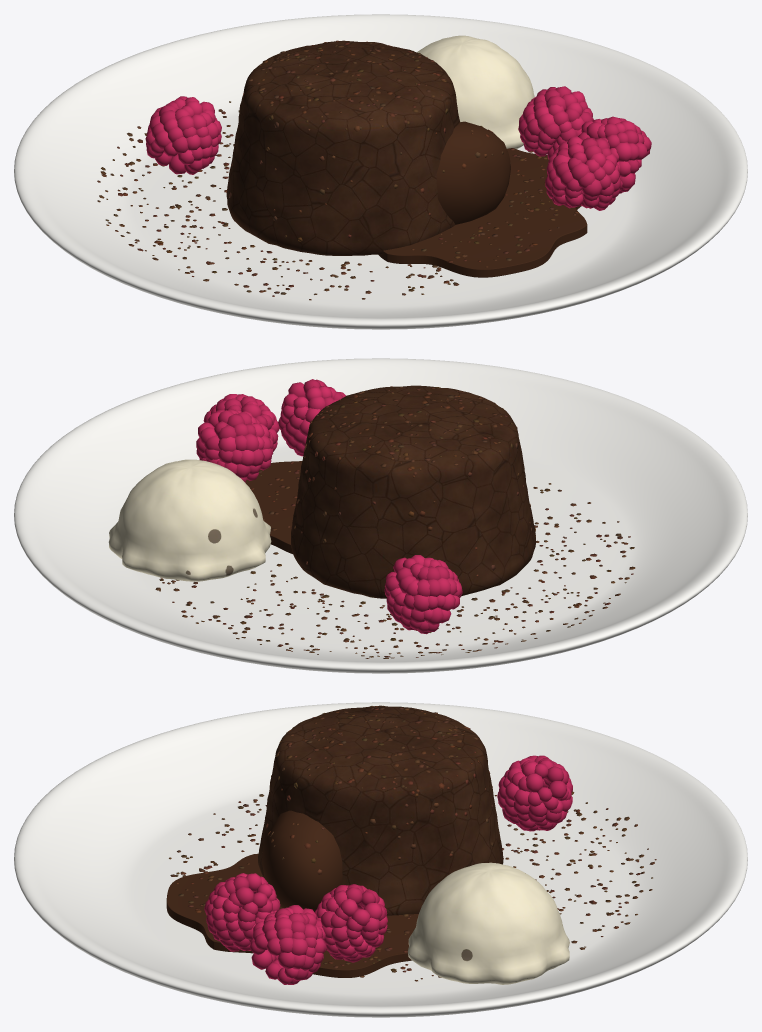
The model's file is lava-cake.glb.
3 views of the same model, one above another, from view 1: azimuth 30°, elevation 25°; view 2: azimuth 150°, elevation 25°; view 3: azimuth 270°, elevation 25° (orthographic).
Parts seen in each view (by area): view 1: base, lava, raspberry, lava-scoop, cocoa; view 2: base, lava, lava-scoop, raspberry, cocoa; view 3: base, lava, raspberry, lava-scoop, cocoa.
Part boxes in pixels (x1,y1,x2,y2): base: (14,14,747,329); lava: (226,40,587,277); raspberry: (145,86,651,210); lava-scoop: (417,35,534,149); cocoa: (97,40,578,300); base: (14,358,747,673); lava: (245,385,535,598); lava-scoop: (108,459,271,581); raspberry: (196,379,462,634); cocoa: (155,386,635,658); base: (14,702,747,1017); lava: (166,705,503,977); raspberry: (204,755,572,984); lava-scoop: (407,862,569,984); cocoa: (169,705,656,981).
Size of the model in its own units: 0.2381 by 0.0584 by 0.2381.
9 materials, 2 textured.
